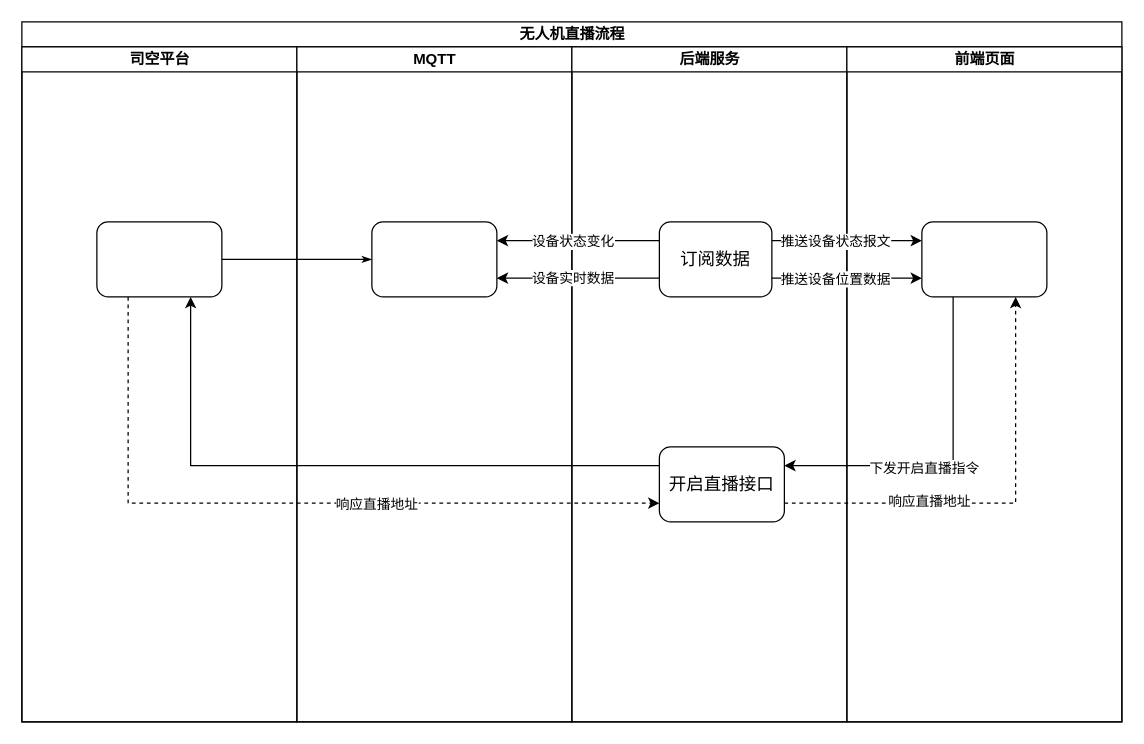
Image size: 1144x744. Some labels were removed from this diagram. Here are the shapes that lost their labels. From the top down, the centre of each, then its label:
pixel 159 259: 开机，上报数据
pixel 434 259: osd 数据 state 数据
pixel 984 259: 接收设备状态 下发直播指令
